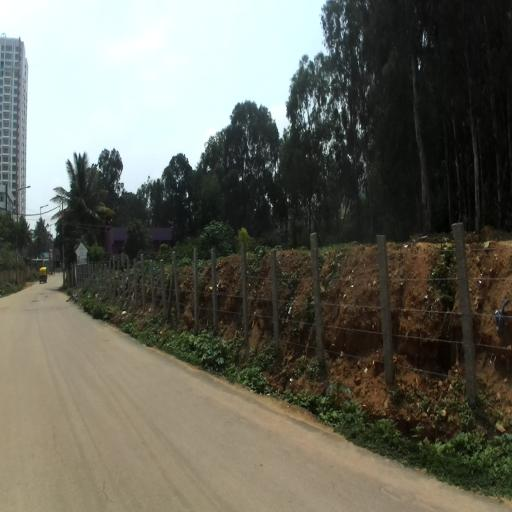street_light_0: (17, 186, 31, 191), (40, 204, 48, 209), (50, 222, 56, 226)
